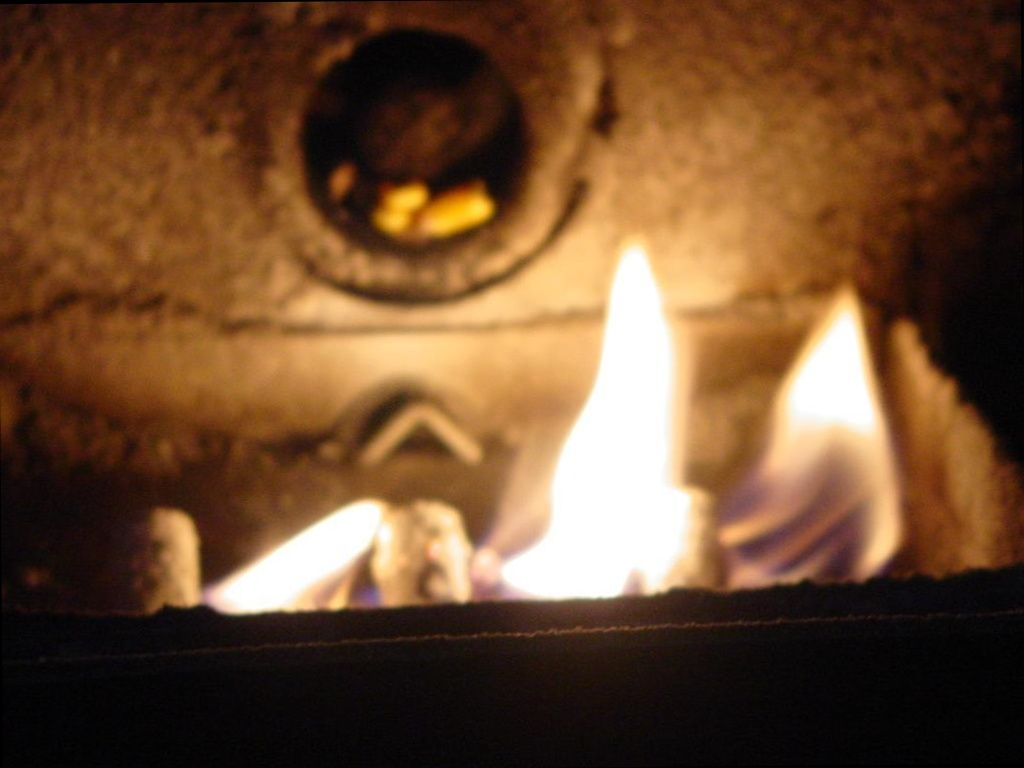fire: (145, 243, 912, 613)
